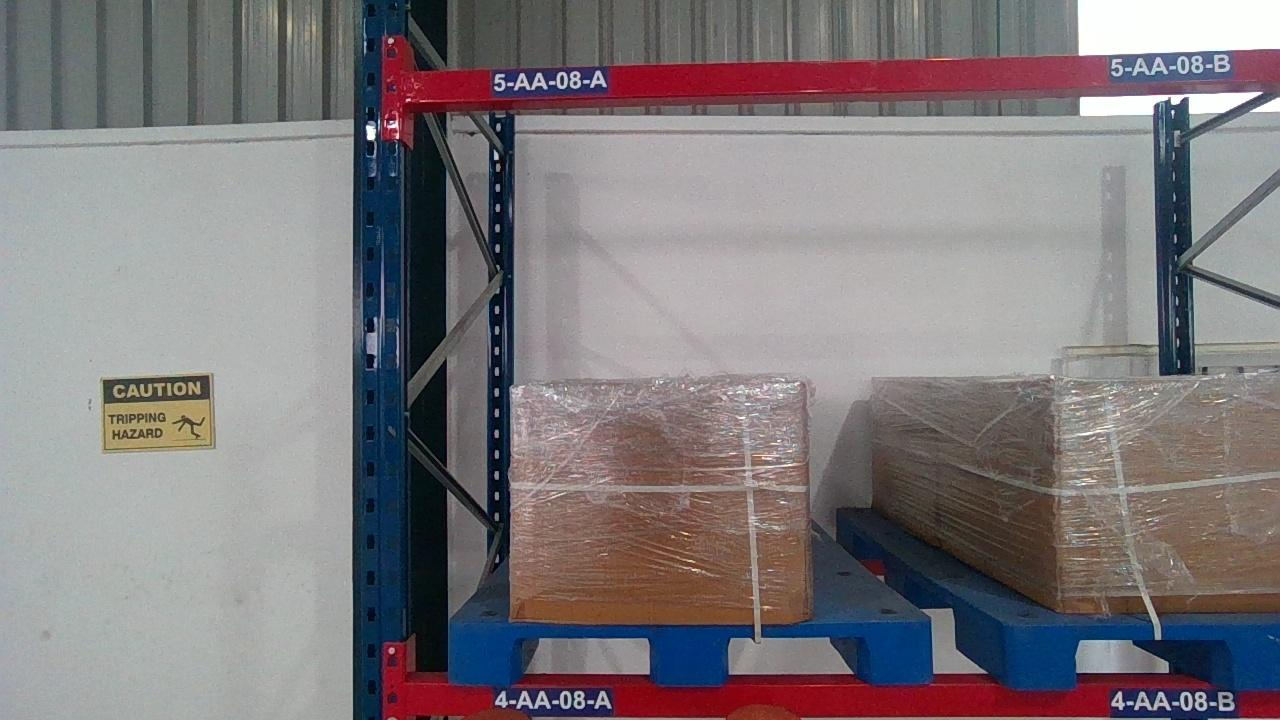h_rack: (404, 50, 1278, 102), (408, 678, 1277, 716)
small_pallet: (444, 622, 936, 680), (1013, 623, 1278, 683)
